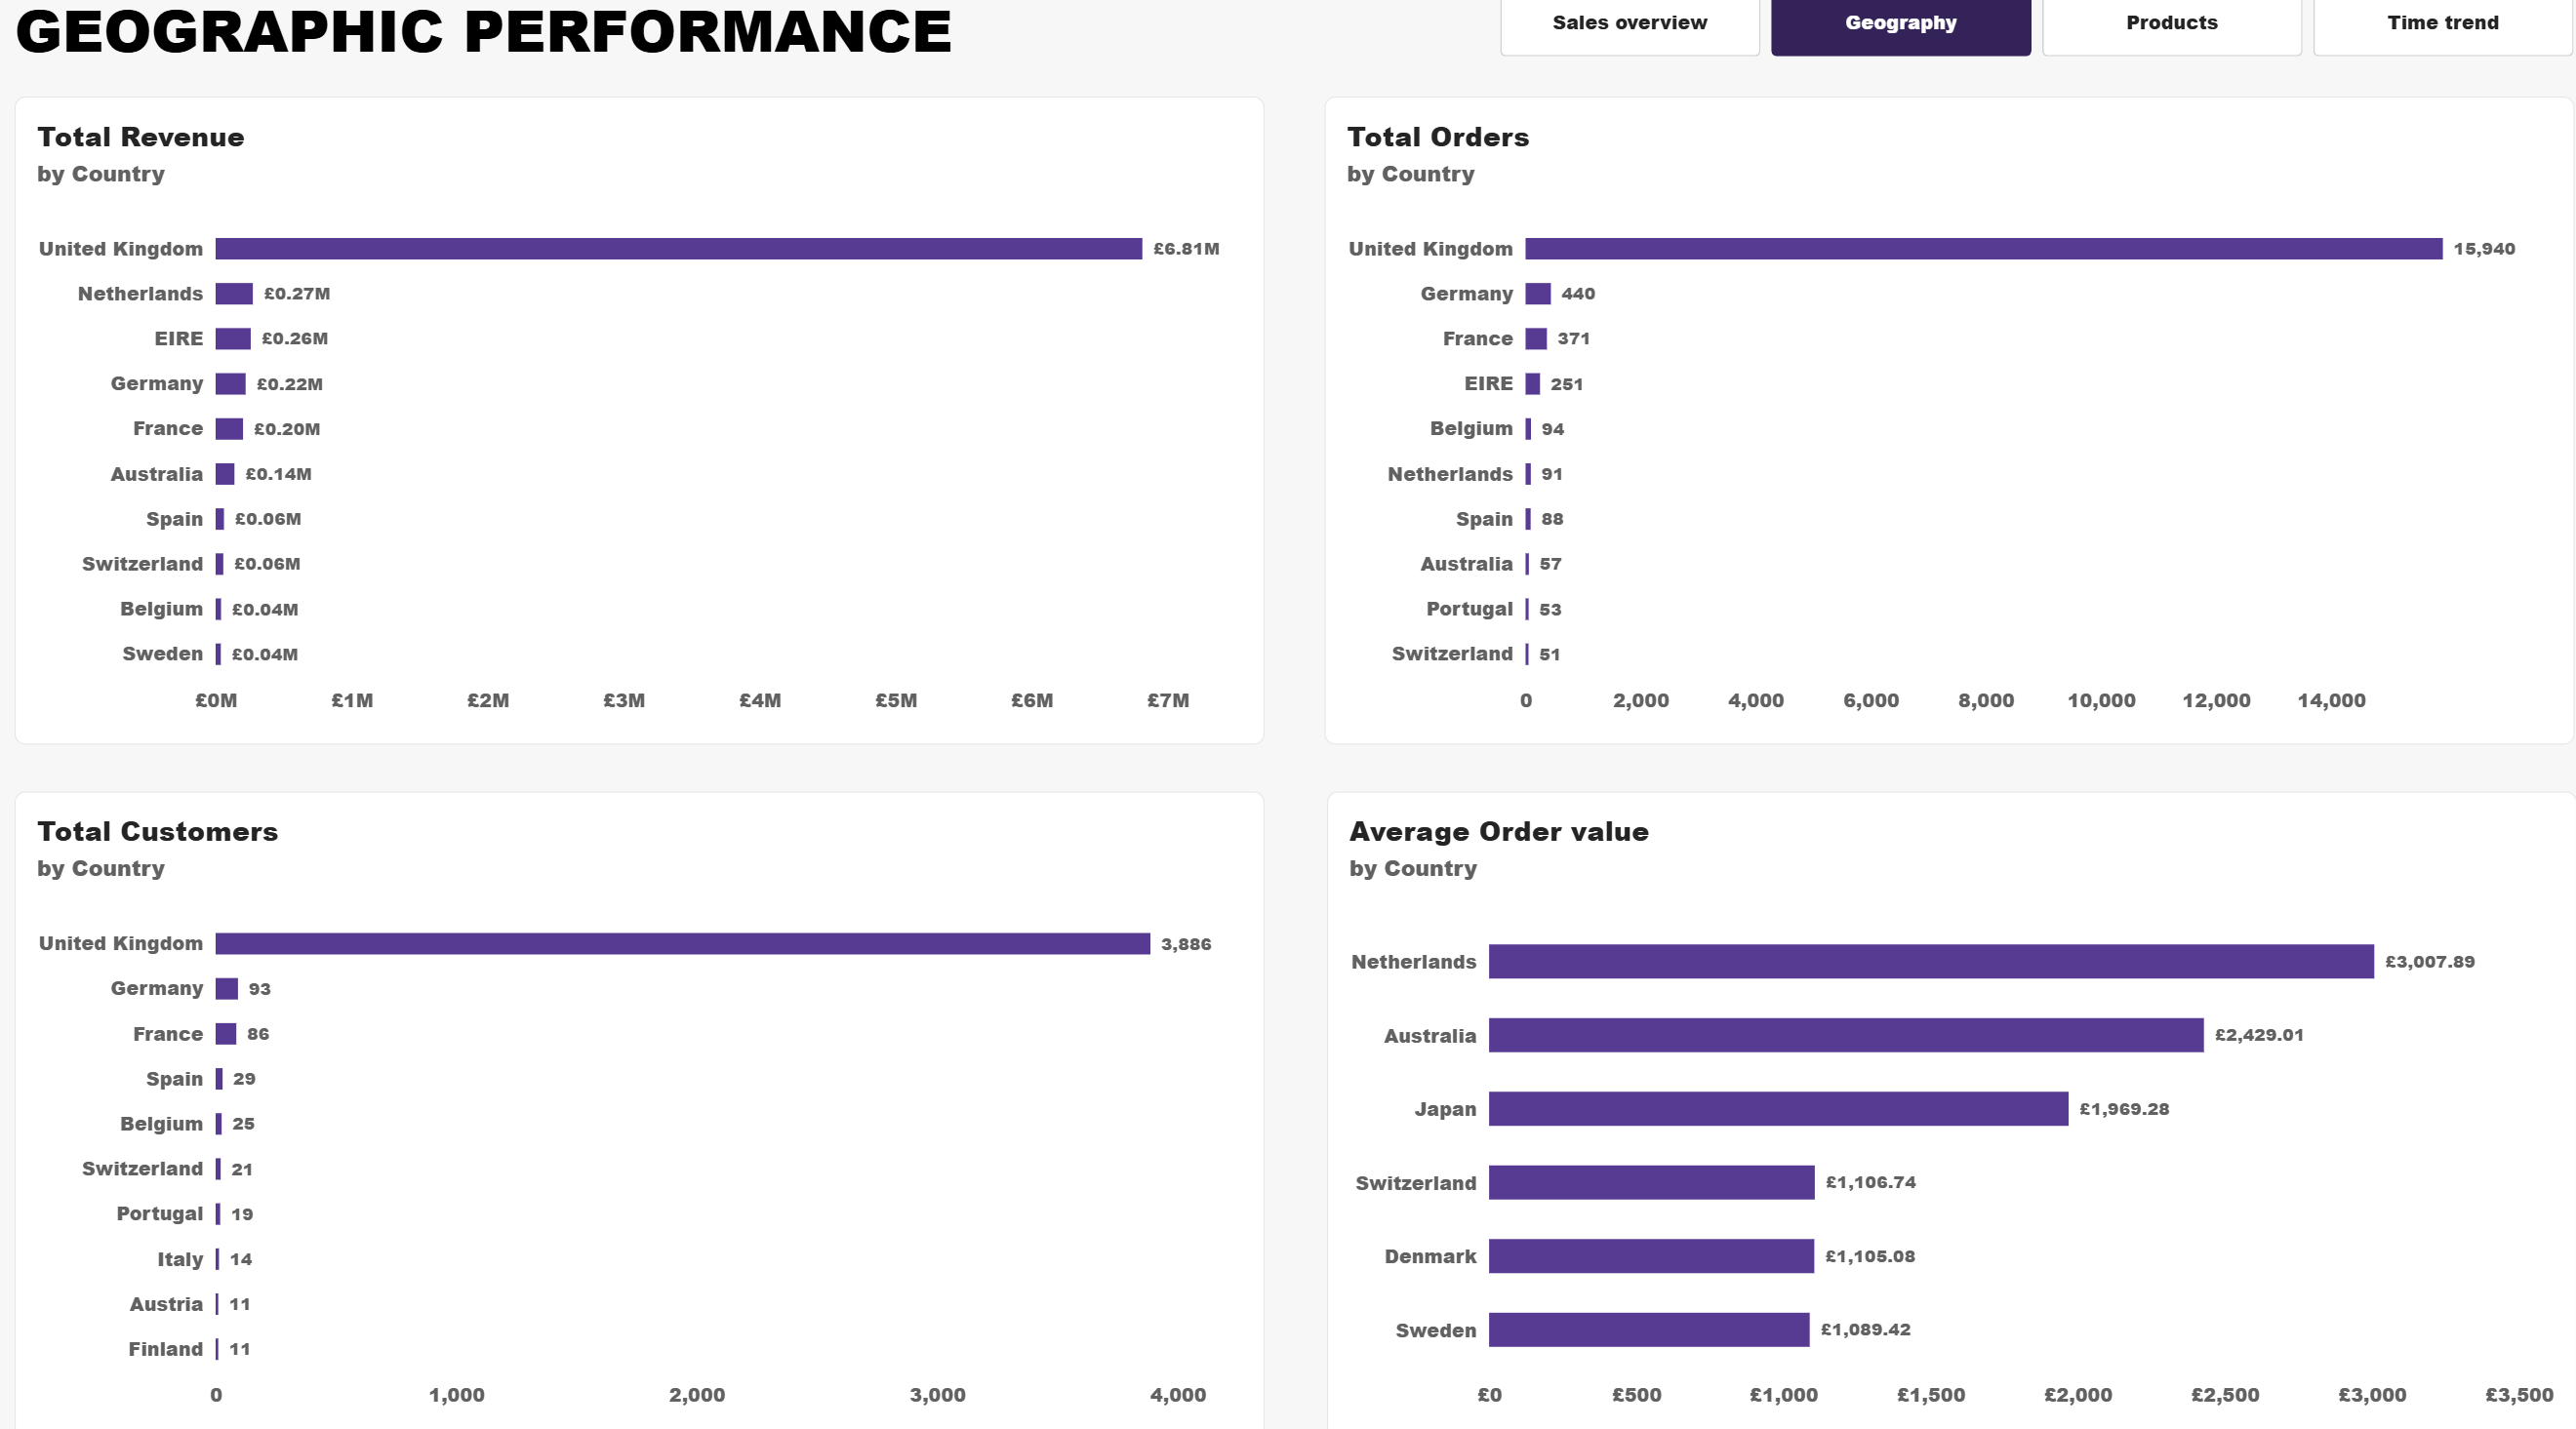

What the dashboard file says about the page in this screenshot:
{"tool":"powerbi","page":{"name":"Geography","canvas":[1920,1080],"ordinal":1},"visuals":[{"type":"textbox","box":[10.8,0,740.1,80.1],"z":0},{"type":"clusteredBarChart","fields":{"Category":["retail.Country"],"Y":["_measures.Total Revenue"]},"box":[10.7,80.1,931.7,483.2],"z":1000},{"type":"clusteredBarChart","fields":{"Category":["retail.Country"],"Y":["_measures.Total Orders"]},"box":[987.8,80.1,931.7,483.2],"z":2000},{"type":"clusteredBarChart","fields":{"Category":["retail.Country"],"Y":["_measures.Total Customers"]},"box":[10.8,597.3,931.7,483.2],"z":3000},{"type":"clusteredBarChart","fields":{"Category":["retail.Country"],"Y":["_measures.Average Order value"]},"box":[989,597.3,931.7,483.2],"z":4000},{"type":"pageNavigator","box":[1118.9,0,800,50],"z":5000}]}

Visuals, with their boxes in screenshot pixels (x1, y1, x2, y2), scaled from the page's 1920x1080 canvas onto the 2576x1429 screenshot:
textbox: <box>15,0,1007,106</box>
clusteredBarChart - retail.Country x _measures.Total Revenue: <box>15,106,1265,745</box>
clusteredBarChart - retail.Country x _measures.Total Orders: <box>1325,106,2575,745</box>
clusteredBarChart - retail.Country x _measures.Total Customers: <box>15,790,1265,1428</box>
clusteredBarChart - retail.Country x _measures.Average Order value: <box>1327,790,2575,1428</box>
pageNavigator: <box>1501,0,2574,66</box>
